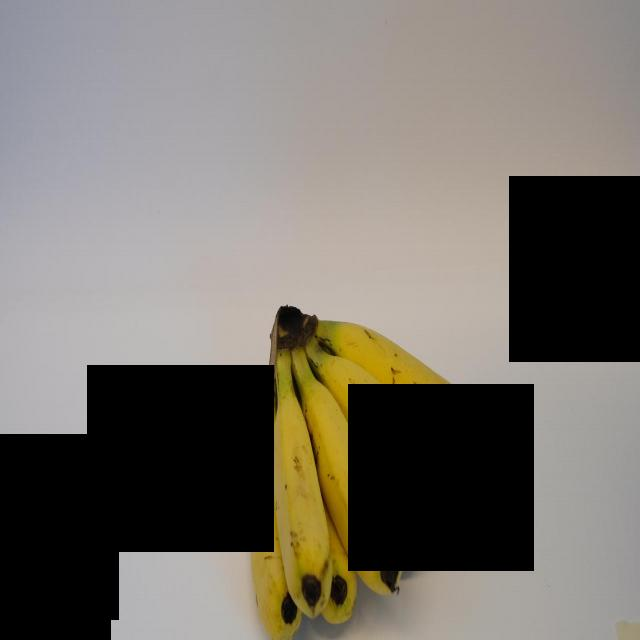banana: (326, 351, 464, 520), (304, 389, 406, 592), (342, 319, 478, 451), (244, 363, 303, 638), (271, 400, 334, 620)
